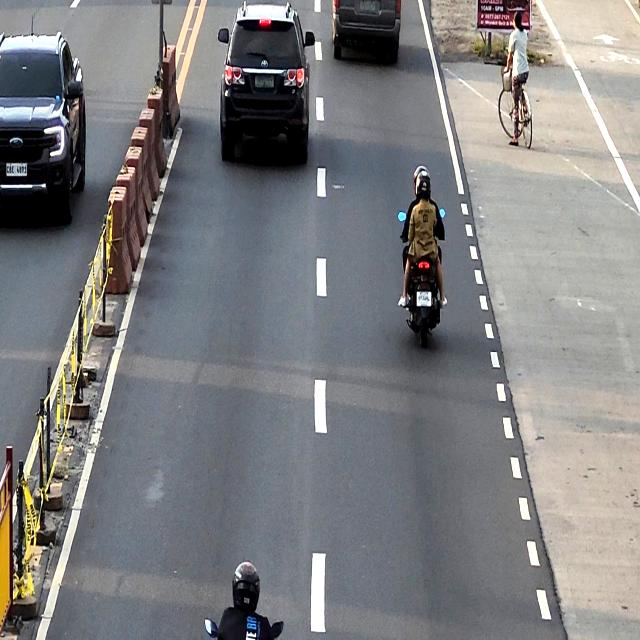Bicycle: (497, 64, 534, 150)
Car: (0, 31, 86, 221), (216, 3, 314, 169), (331, 0, 402, 61)
License-Plate: (6, 163, 27, 177), (255, 76, 274, 88), (418, 292, 432, 306), (360, 1, 376, 11)
Motorcycle: (398, 206, 446, 348)
